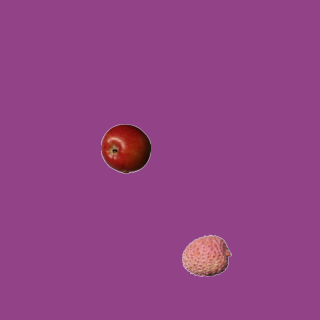Apple Braeburn: (100, 123, 150, 173)
Lychee: (181, 230, 231, 280)
